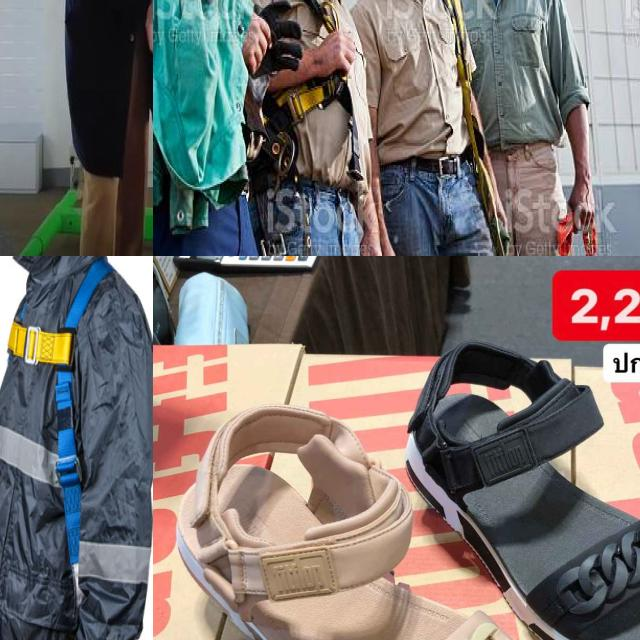Harness: (236, 0, 357, 192), (424, 0, 508, 249)
Sandals: (156, 375, 582, 640), (383, 320, 640, 640)
